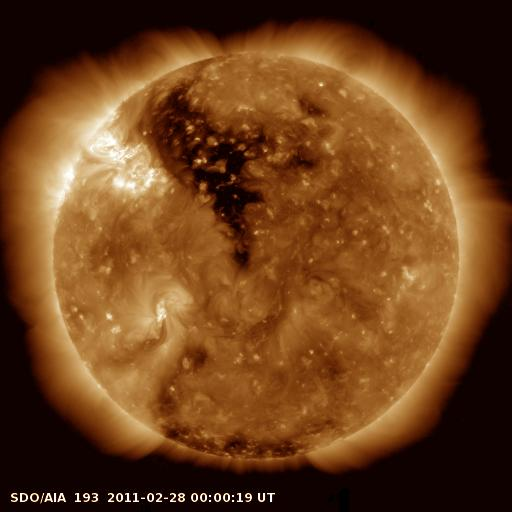coronal_hole: (140, 74, 317, 266), (158, 414, 302, 479)
